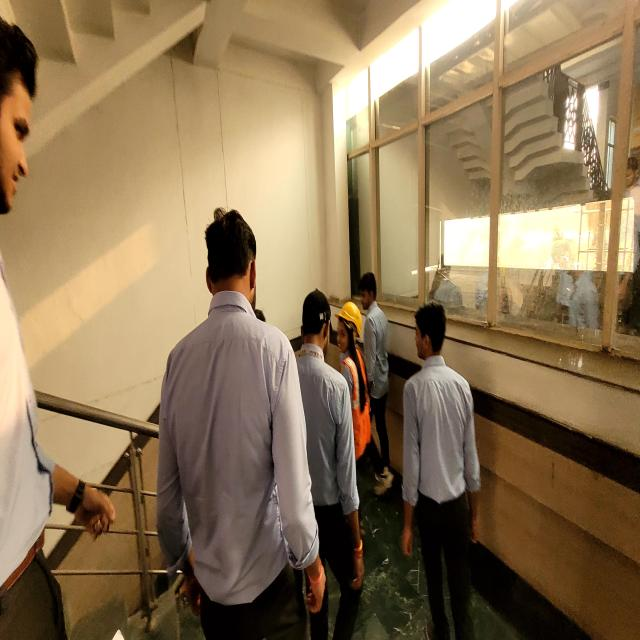safe: (336, 300, 364, 458)
unsafe: (158, 201, 304, 636), (401, 302, 479, 640), (290, 294, 344, 566), (362, 270, 392, 498)
